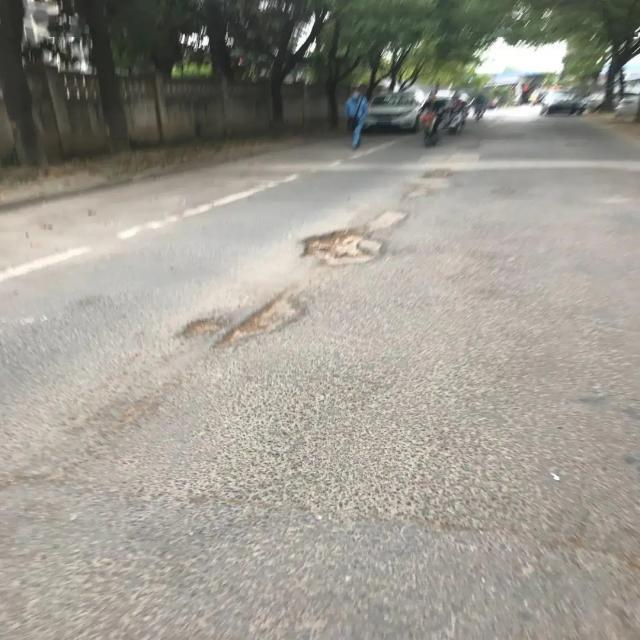pothole: (175, 284, 315, 352), (298, 209, 413, 268), (400, 169, 463, 192)
